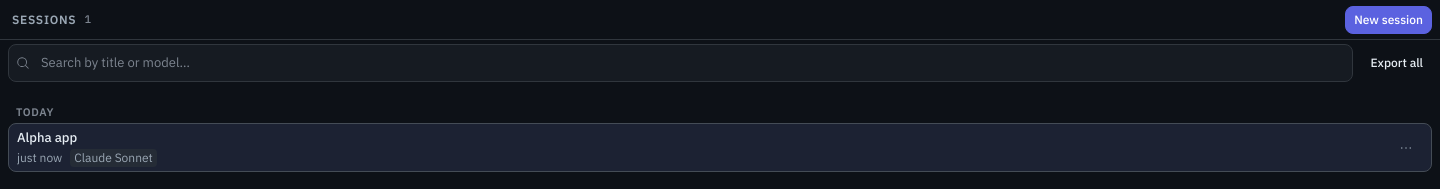
Test: SessionsPanel › matches a model's display name from the catalog
Check: the text "Claude Sonnet" is shown, box [70, 149, 157, 167]
Step 1. Type "claude sonnet" into the search field named "Search sessions" → point(681, 63), box [8, 44, 1354, 82]
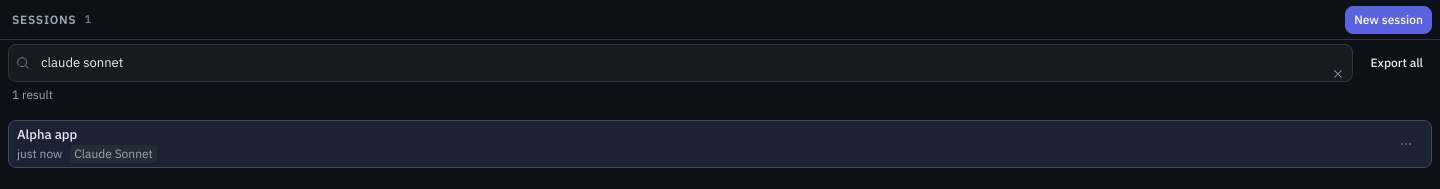
Check: the text "1 result" is shown, box [12, 86, 53, 102]
